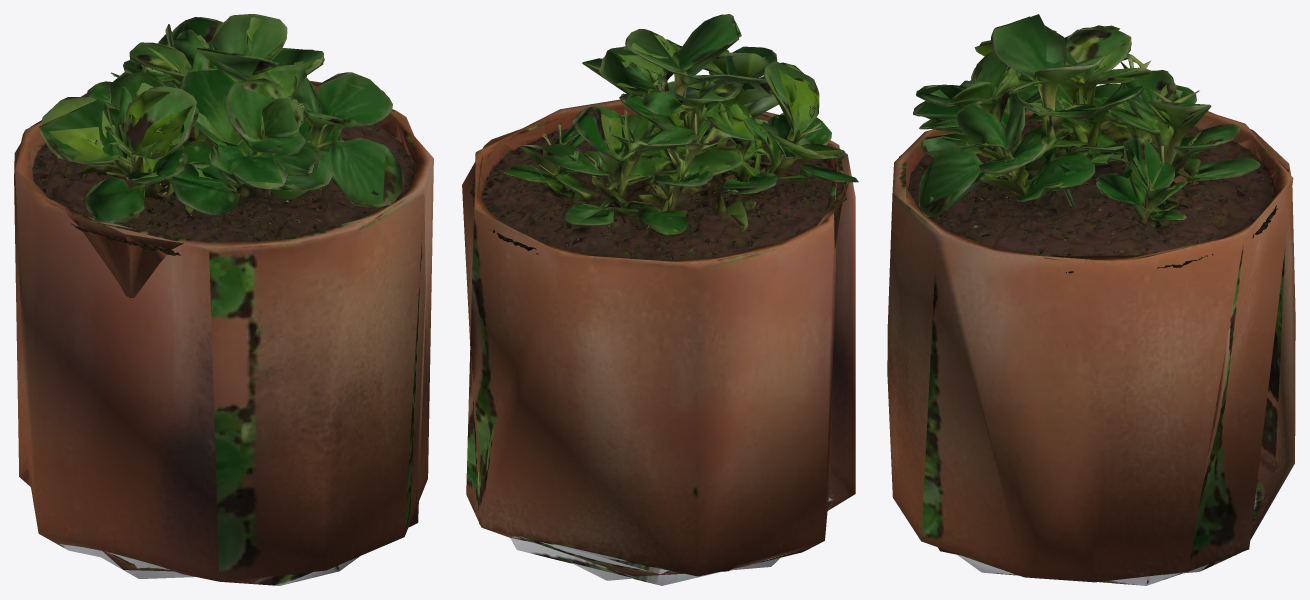
File: fm_plant_peperomia.glb
3 views of the same model, side by side, from view 1: azimuth 30°, elevation 25°; view 2: azimuth 150°, elevation 25°; view 3: azimuth 270°, elevation 25° (orthographic). The views are drawn at different scales.
Visible parts, largest first — view 1: world; view 2: world; view 3: world.
Boxes of the visible parts, <box> form: world: <box>14,14,433,585</box>; world: <box>462,14,858,585</box>; world: <box>887,14,1295,585</box>.
Size of the model in its own units: 0.2669 by 0.3496 by 0.2691.
Materials: 1 (1 with a texture image).
